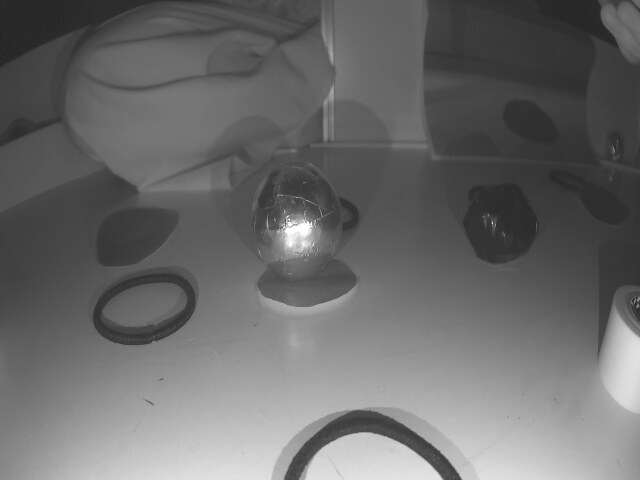Dead: (464, 184, 536, 264)
Live: (251, 165, 345, 280)
Point: (1, 118, 103, 216)
